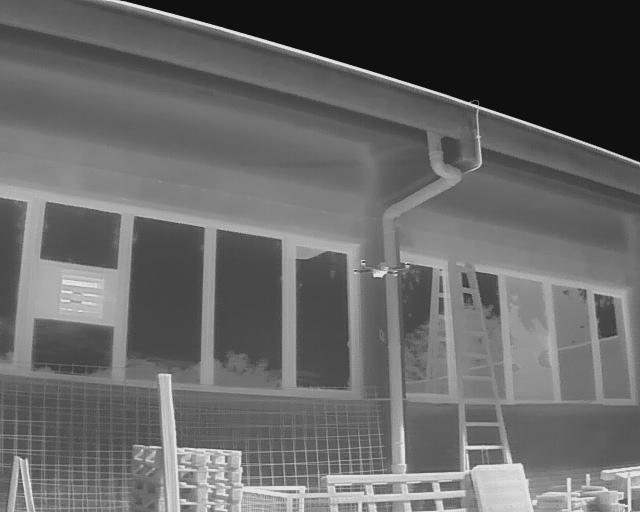drone: (340, 252, 422, 285)
